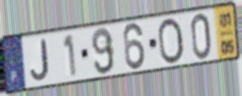0: (189, 11, 213, 62)
1: (61, 32, 78, 79)
6: (122, 21, 146, 72)
9: (91, 26, 116, 77)
J: (29, 38, 51, 82)
O: (157, 17, 186, 67)
